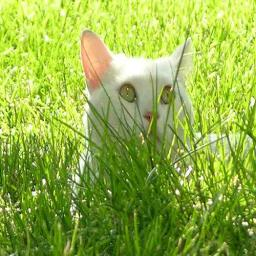catnose: (143, 106, 161, 127)
